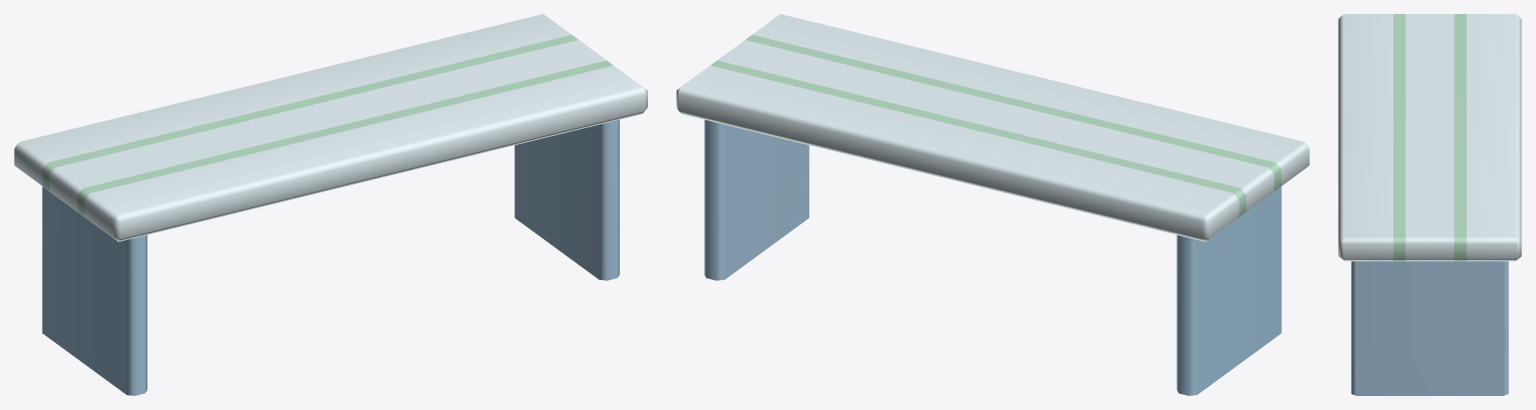
File: Decor_Ghecho.fbx
3 views of the same model, side by side, from view 1: azimuth 30°, elevation 25°; view 2: azimuth 150°, elevation 25°; view 3: azimuth 270°, elevation 25° (orthographic). The views are drawn at different scales.
Parts seen in each view (by area): view 1: Decor_Ghecho; view 2: Decor_Ghecho; view 3: Decor_Ghecho.
Part boxes in pixels (left/top/right/bottom): Decor_Ghecho: left=14, top=14, right=647, bottom=395; Decor_Ghecho: left=676, top=14, right=1309, bottom=395; Decor_Ghecho: left=1338, top=14, right=1521, bottom=395.
Size of the model in its own units: 254 by 86.13 by 86.24.
